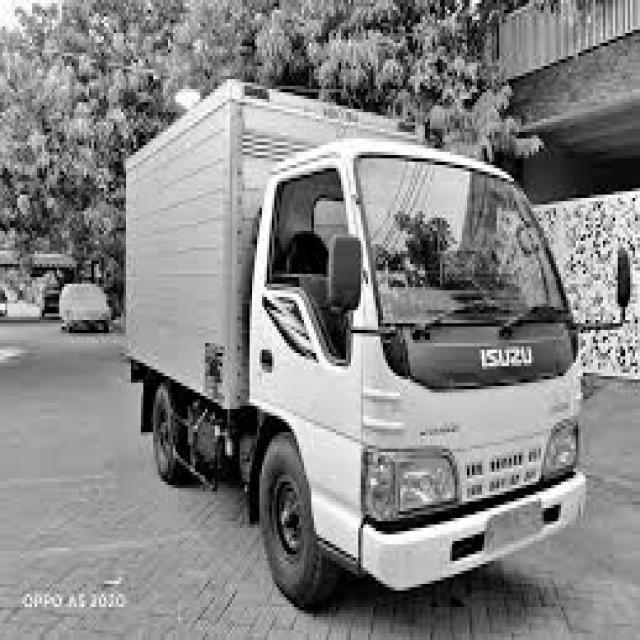truck: (225, 106, 638, 613)
